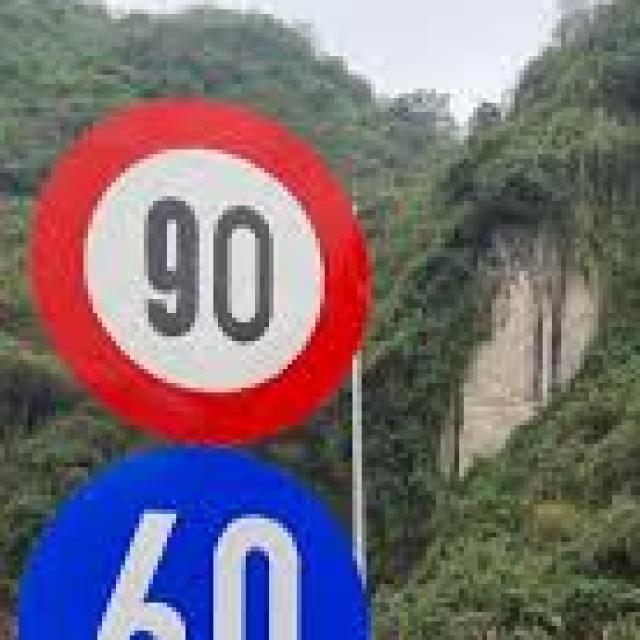Speed Limit -90-: (33, 98, 369, 442)
